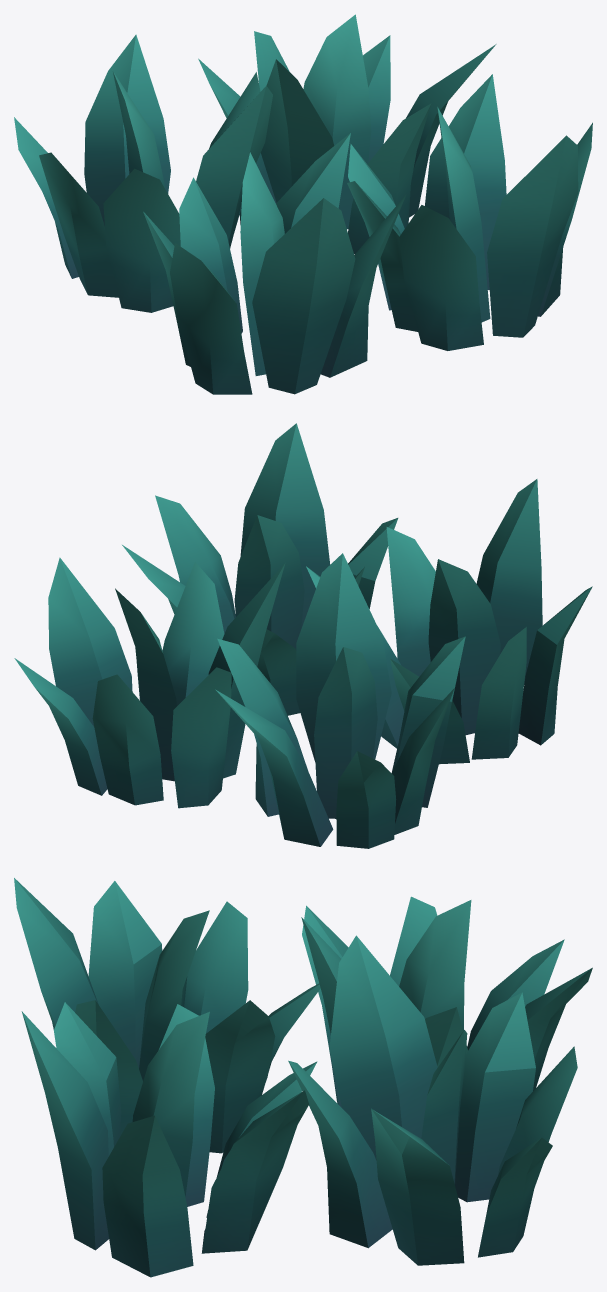
Rendered from grass__blue_group.glb.
The picture shows the model from 3 angles, top to bottom: view 1: azimuth 30°, elevation 25°; view 2: azimuth 150°, elevation 25°; view 3: azimuth 270°, elevation 25°; orthographic projection. The views are drawn at different scales.
Parts seen in each view (by area): view 1: grass__blue_group; view 2: grass__blue_group; view 3: grass__blue_group.
Boxes of the visible parts, x1,y1,x2,y2 form: grass__blue_group: [14, 14, 592, 394]; grass__blue_group: [14, 423, 592, 848]; grass__blue_group: [14, 878, 592, 1277].
Size of the model in its own units: 1.1 by 0.5149 by 1.13.
1 material, 1 textured.
